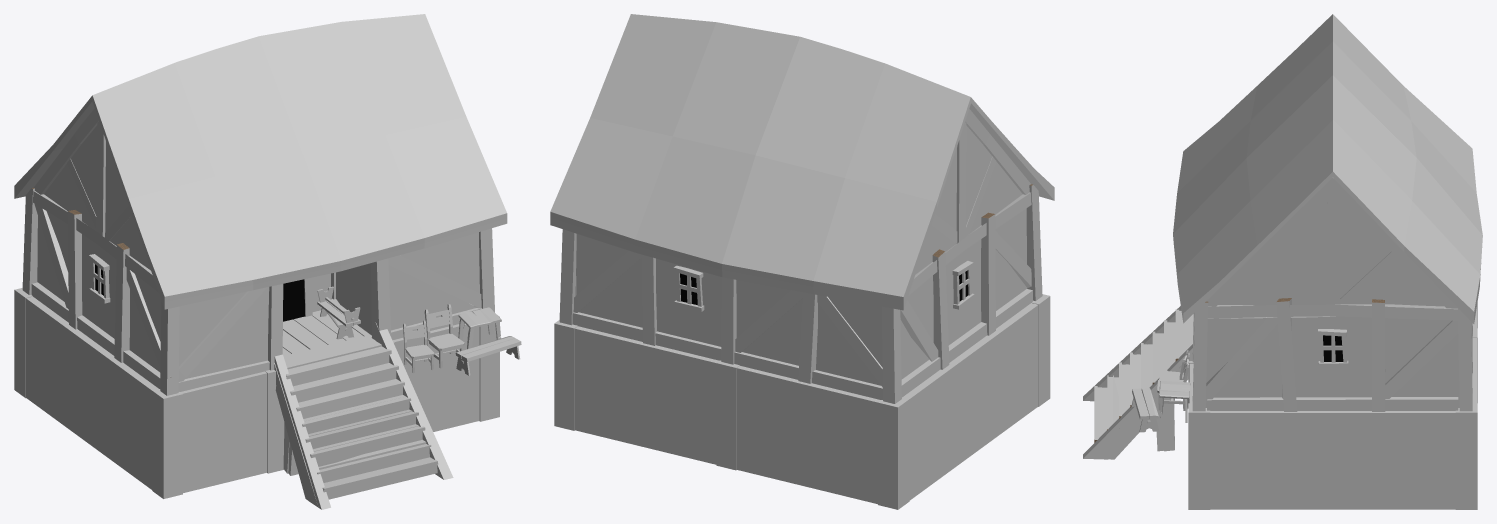
The model's file is JoinerWorkshop2.fbx.
3 views of the same model, side by side, from view 1: azimuth 30°, elevation 25°; view 2: azimuth 150°, elevation 25°; view 3: azimuth 270°, elevation 25° (orthographic). The views are drawn at different scales.
Visible parts, largest first — view 1: Roof.001, Foundation.001, Post.001, Wall.001, Stair.001, Footing.001, step_2.001, Floor.001, Chair.001, Bench.001, Table.001, Chair.002 (+3 smaller); view 2: Roof.001, Foundation.001, Post.001, Wall.001, Footing.001, Window.002, Window.001; view 3: Roof.001, Foundation.001, Wall.001, Post.001, Stair.001, Footing.001, step_2.001, Window.003, Bench.001, Table.001.
Boxes of the visible parts, x1,y1,x2,y2 form: Roof.001: (14, 14, 507, 309); Foundation.001: (26, 296, 479, 492); Post.001: (22, 108, 494, 395); Wall.001: (37, 125, 479, 378); Stair.001: (274, 322, 453, 509); Footing.001: (14, 288, 499, 498); step_2.001: (274, 333, 426, 506); Floor.001: (282, 310, 371, 355); Chair.001: (424, 304, 464, 368); Bench.001: (455, 336, 521, 375); Table.001: (458, 307, 501, 348); Chair.002: (403, 320, 434, 373); Roof.001: (550, 14, 1054, 310); Foundation.001: (574, 303, 1038, 504); Post.001: (559, 109, 1042, 403); Wall.001: (575, 125, 1027, 385); Footing.001: (554, 294, 1050, 509); Window.002: (673, 265, 704, 311); Window.001: (952, 261, 974, 309); Roof.001: (1173, 14, 1482, 323); Foundation.001: (1190, 307, 1476, 509); Wall.001: (1205, 197, 1459, 407); Post.001: (1192, 177, 1472, 411); Stair.001: (1083, 306, 1193, 459); Footing.001: (1188, 303, 1477, 509); step_2.001: (1089, 320, 1192, 459); Window.003: (1318, 329, 1348, 367); Bench.001: (1131, 388, 1159, 432); Table.001: (1159, 381, 1190, 422).
Size of what is drawn, in the model's own units: 930 by 914 by 899.
